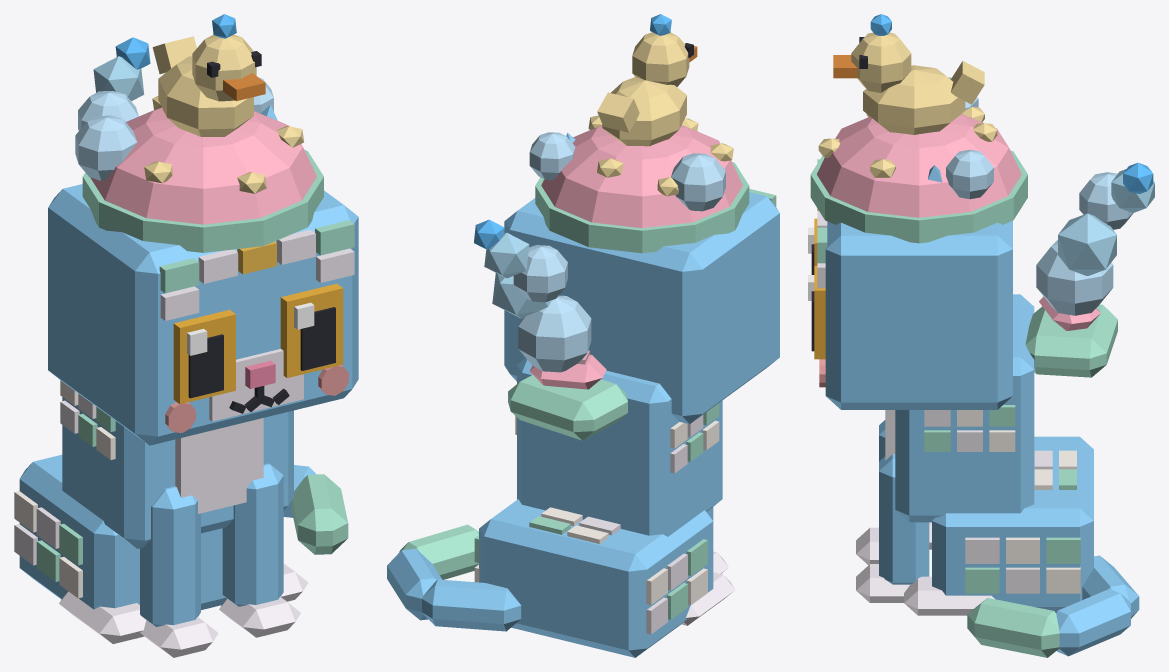
Rendered from CleanACat_Cat_Bathtile_Sit.fbx.
The picture shows the model from 3 angles, left to right: view 1: azimuth 30°, elevation 25°; view 2: azimuth 150°, elevation 25°; view 3: azimuth 270°, elevation 25°; orthographic projection. The views are drawn at different scales.
Visible parts, largest first — view 1: CleanACat_Cat_Bathtile_Sit_Head, CleanACat_Cat_Bathtile_Sit_Body, CleanACat_Cat_Bathtile_Sit_Prop, CleanACat_Cat_Bathtile_Sit_LegF2, CleanACat_Cat_Bathtile_Sit_LegF1, CleanACat_Cat_Bathtile_Sit_Eye1, CleanACat_Cat_Bathtile_Sit_Eye2, CleanACat_Cat_Bathtile_Sit_Tail, CleanACat_Cat_Bathtile_Sit_Prop_Glass, CleanACat_Cat_Bathtile_Sit_Prop2, CleanACat_Cat_Bathtile_Sit_Prop2_Glass, CleanACat_Cat_Bathtile_Sit_Bubbles_Glow; view 2: CleanACat_Cat_Bathtile_Sit_Body, CleanACat_Cat_Bathtile_Sit_Head, CleanACat_Cat_Bathtile_Sit_Prop, CleanACat_Cat_Bathtile_Sit_Prop2, CleanACat_Cat_Bathtile_Sit_Tail, CleanACat_Cat_Bathtile_Sit_Prop2_Glass, CleanACat_Cat_Bathtile_Sit_Prop_Glass, CleanACat_Cat_Bathtile_Sit_Bubbles_Glow; view 3: CleanACat_Cat_Bathtile_Sit_Body, CleanACat_Cat_Bathtile_Sit_Head, CleanACat_Cat_Bathtile_Sit_Prop, CleanACat_Cat_Bathtile_Sit_Prop2, CleanACat_Cat_Bathtile_Sit_Tail, CleanACat_Cat_Bathtile_Sit_LegF1, CleanACat_Cat_Bathtile_Sit_Prop2_Glass, CleanACat_Cat_Bathtile_Sit_Prop_Glass, CleanACat_Cat_Bathtile_Sit_Eye1, CleanACat_Cat_Bathtile_Sit_LegF2, CleanACat_Cat_Bathtile_Sit_Bubbles_Glow.
Part boxes in pixels (box(x1,y1,x2,y2)): CleanACat_Cat_Bathtile_Sit_Head: box(48, 184, 358, 445); CleanACat_Cat_Bathtile_Sit_Body: box(14, 380, 308, 643); CleanACat_Cat_Bathtile_Sit_Prop: box(82, 34, 323, 252); CleanACat_Cat_Bathtile_Sit_LegF2: box(140, 486, 218, 657); CleanACat_Cat_Bathtile_Sit_LegF1: box(219, 463, 300, 637); CleanACat_Cat_Bathtile_Sit_Eye1: box(280, 283, 343, 377); CleanACat_Cat_Bathtile_Sit_Eye2: box(173, 309, 235, 404); CleanACat_Cat_Bathtile_Sit_Tail: box(283, 465, 348, 554); CleanACat_Cat_Bathtile_Sit_Prop_Glass: box(75, 77, 273, 180); CleanACat_Cat_Bathtile_Sit_Prop2: box(93, 56, 144, 101); CleanACat_Cat_Bathtile_Sit_Prop2_Glass: box(78, 91, 138, 130); CleanACat_Cat_Bathtile_Sit_Bubbles_Glow: box(115, 37, 150, 69); CleanACat_Cat_Bathtile_Sit_Body: box(474, 358, 735, 657); CleanACat_Cat_Bathtile_Sit_Head: box(504, 189, 779, 424); CleanACat_Cat_Bathtile_Sit_Prop: box(535, 32, 749, 253); CleanACat_Cat_Bathtile_Sit_Prop2: box(484, 232, 627, 440); CleanACat_Cat_Bathtile_Sit_Tail: box(387, 524, 521, 631); CleanACat_Cat_Bathtile_Sit_Prop2_Glass: box(513, 245, 591, 372); CleanACat_Cat_Bathtile_Sit_Prop_Glass: box(529, 132, 725, 211); CleanACat_Cat_Bathtile_Sit_Bubbles_Glow: box(474, 219, 504, 249); CleanACat_Cat_Bathtile_Sit_Body: box(885, 294, 1093, 615); CleanACat_Cat_Bathtile_Sit_Head: box(817, 159, 1012, 409); CleanACat_Cat_Bathtile_Sit_Prop: box(810, 32, 1027, 243); CleanACat_Cat_Bathtile_Sit_Prop2: box(1025, 169, 1154, 377); CleanACat_Cat_Bathtile_Sit_Tail: box(967, 555, 1139, 657); CleanACat_Cat_Bathtile_Sit_LegF1: box(856, 454, 929, 602); CleanACat_Cat_Bathtile_Sit_Prop2_Glass: box(1036, 172, 1133, 315); CleanACat_Cat_Bathtile_Sit_Prop_Glass: box(946, 77, 993, 199); CleanACat_Cat_Bathtile_Sit_Eye1: box(808, 266, 825, 359); CleanACat_Cat_Bathtile_Sit_LegF2: box(856, 420, 885, 564); CleanACat_Cat_Bathtile_Sit_Bubbles_Glow: box(1123, 162, 1153, 193).
Bounding box in the file's own units: 1.24 × 2.34 × 1.3.
1 material, 1 textured.
